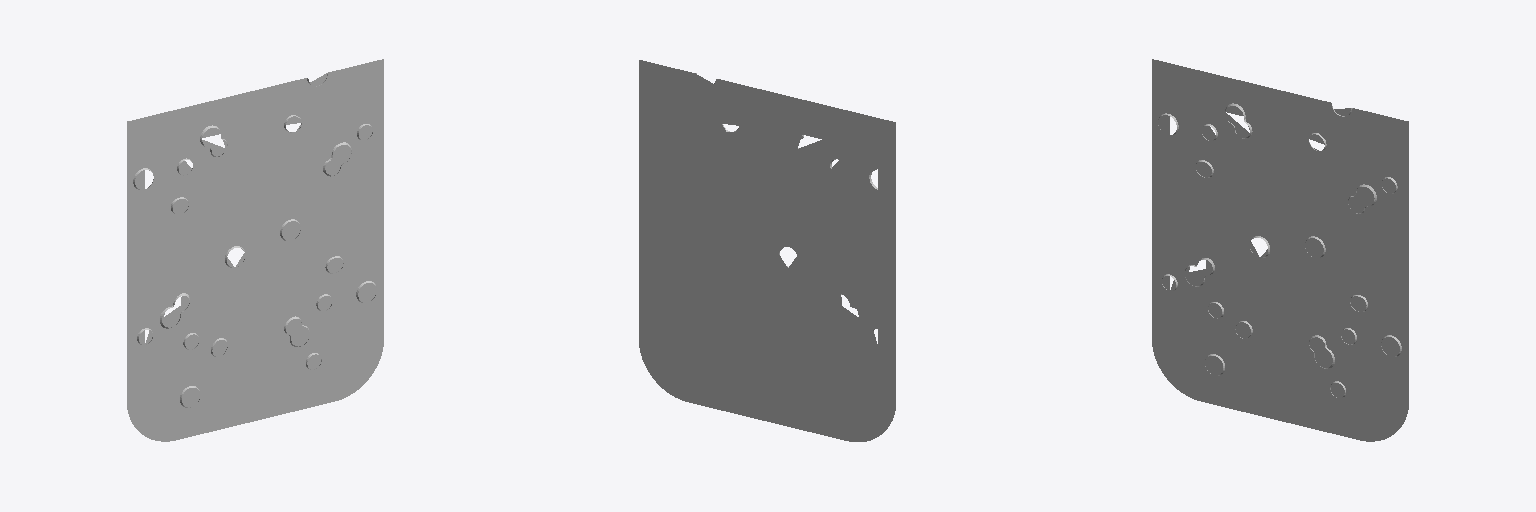
File: Speelveld_001.obj
3 renders of one model, left to right at view 1: azimuth 30°, elevation 25°; view 2: azimuth 150°, elevation 25°; view 3: azimuth 330°, elevation 25°, orthographic.
Visible parts, largest first — view 1: LVL_001_Plane.006; view 2: LVL_001_Plane.006; view 3: LVL_001_Plane.006.
Boxes of the visible parts, <box> form: LVL_001_Plane.006: <box>127,59,383,441</box>; LVL_001_Plane.006: <box>639,60,895,441</box>; LVL_001_Plane.006: <box>1152,59,1408,441</box>.
Size of the model in its own units: 26 by 31.87 by 0.1698.